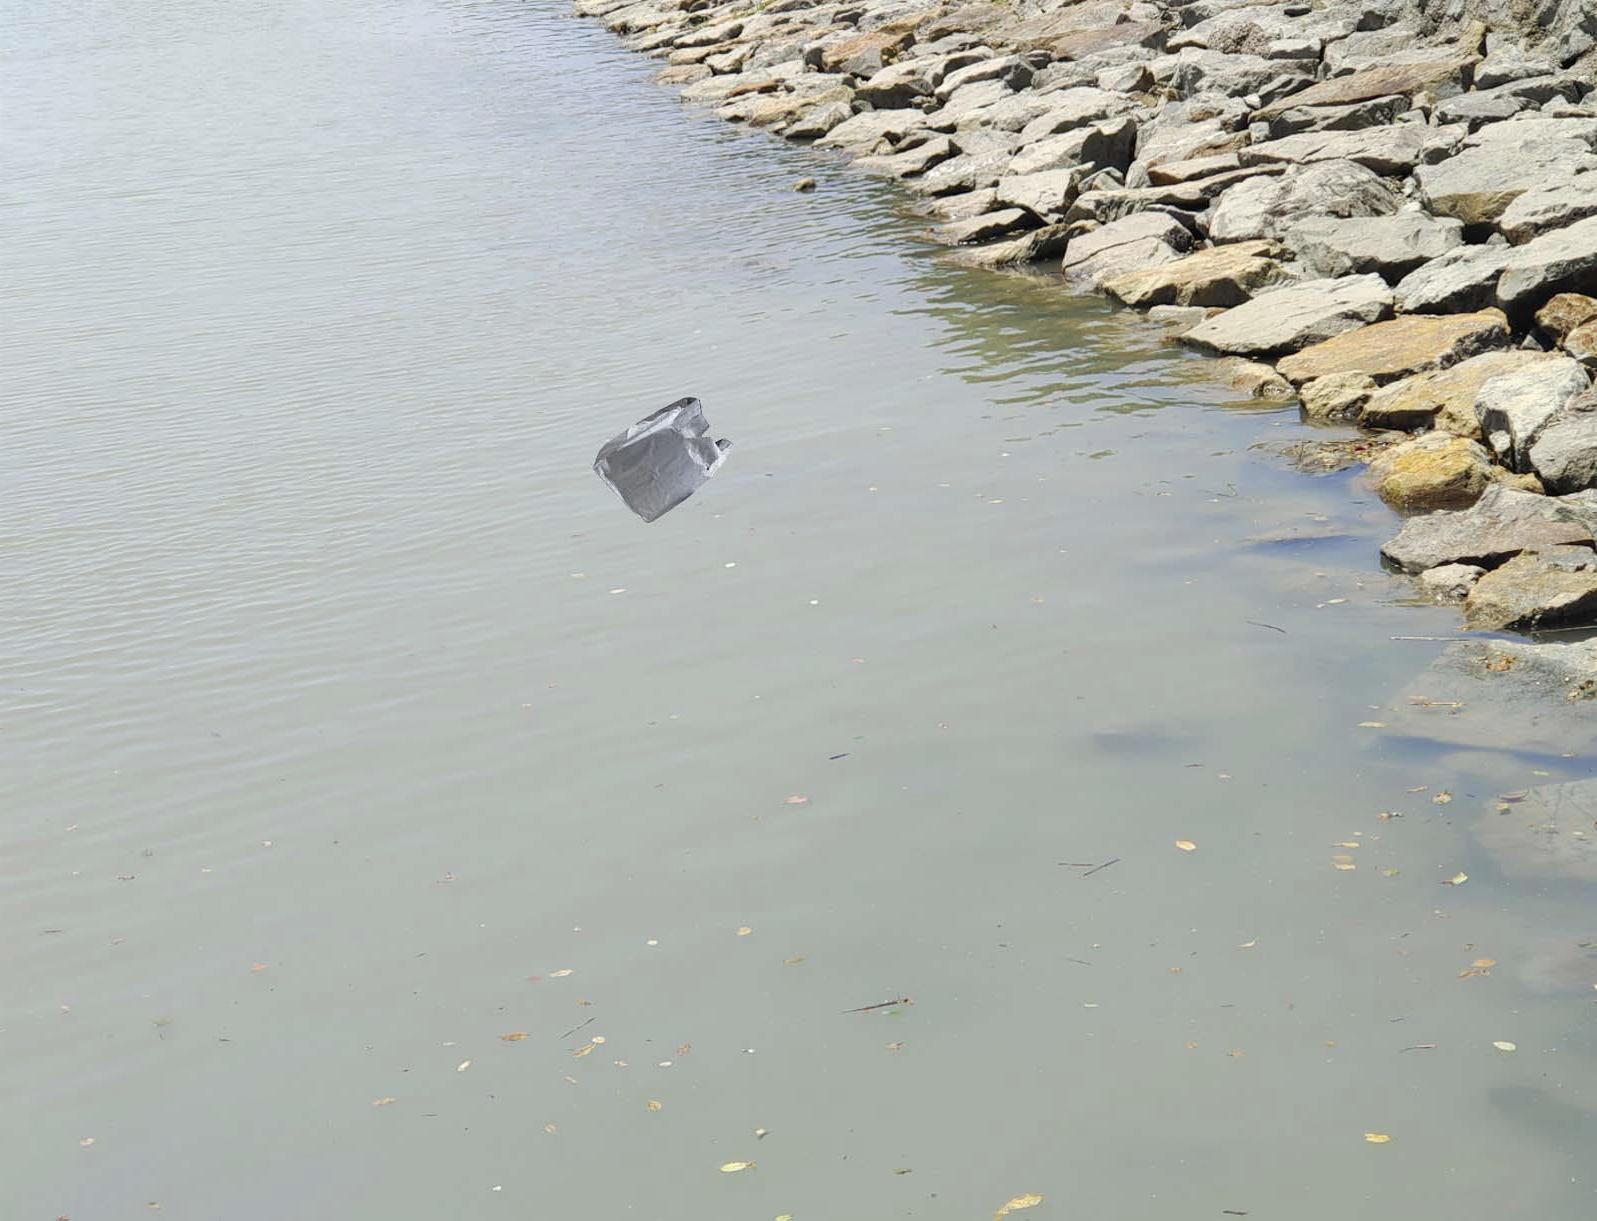Trash: (590, 392, 732, 528)
